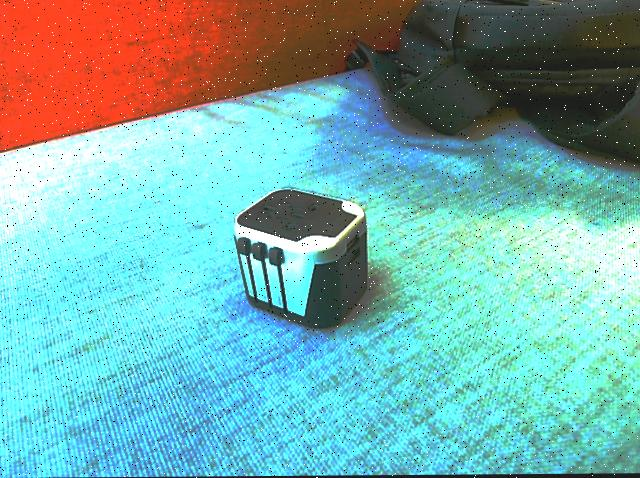adapter: (232, 188, 368, 331)
